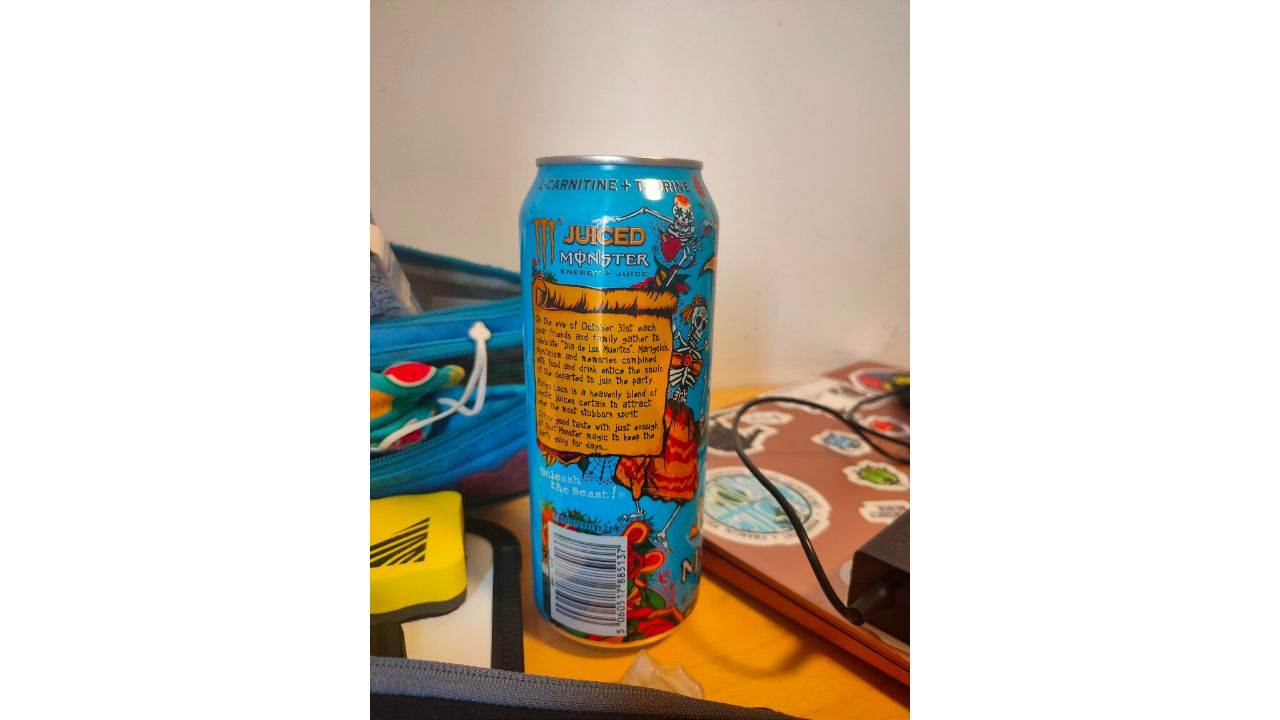Can: (514, 152, 719, 655)
